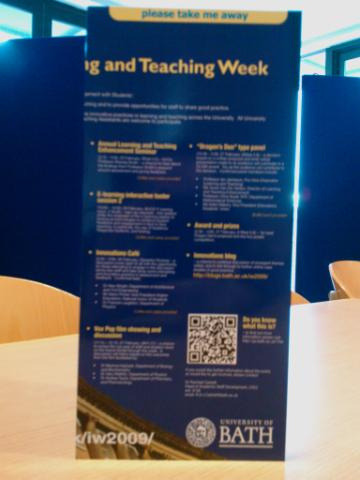QR-CODE: (189, 316, 235, 362)
